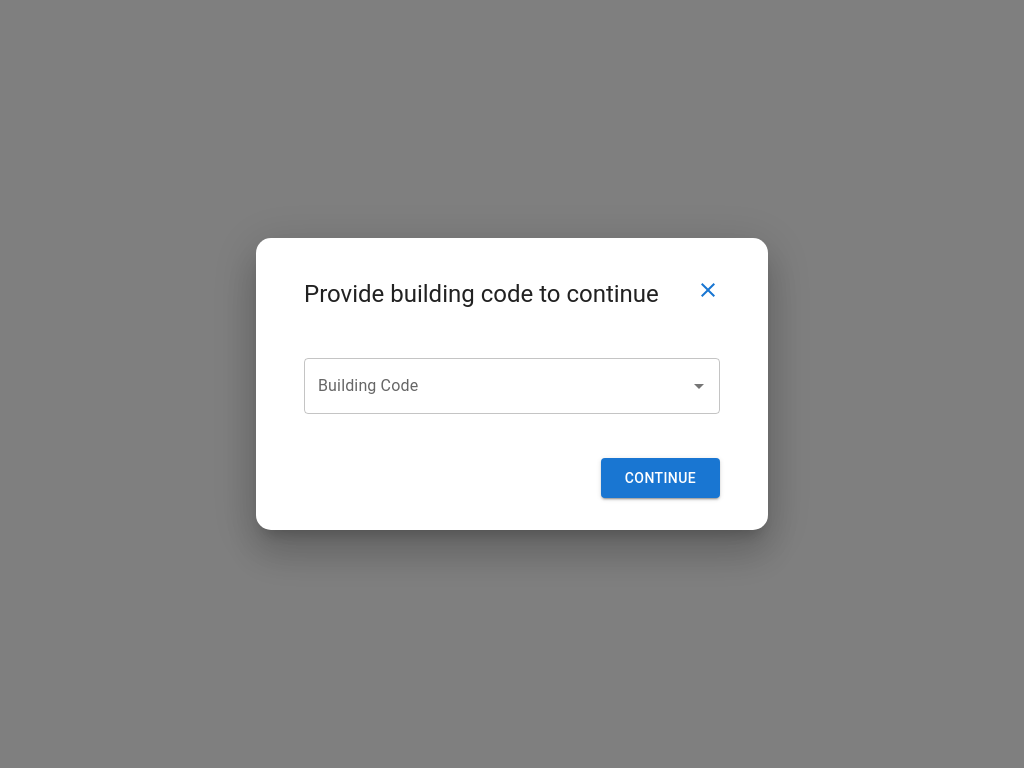
Test: WelcomeBasketBuildingDialog › Form Submission - Error Cases › shows error when no welcome unit exists for selected building
The width and height of the screenshot is (1024, 768).
Press the mouse on the dropdown labelled "Building Code": (484, 386) [313,367,655,405]
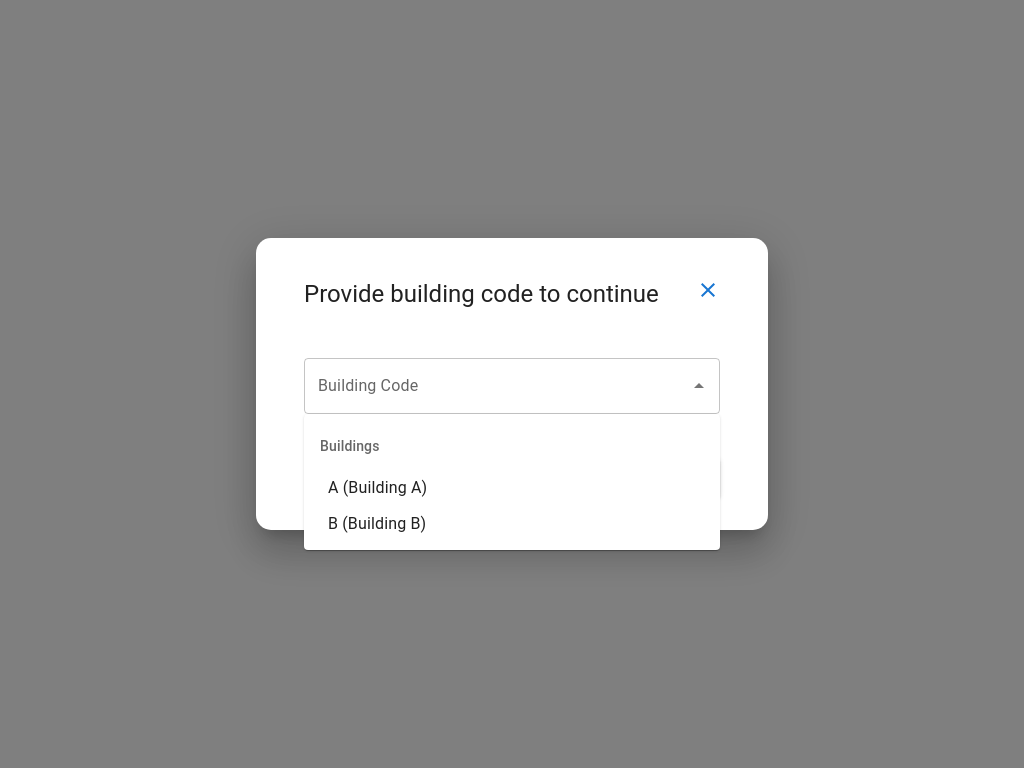
Click the option "A (Building A)": (378, 488) [328,478,427,497]
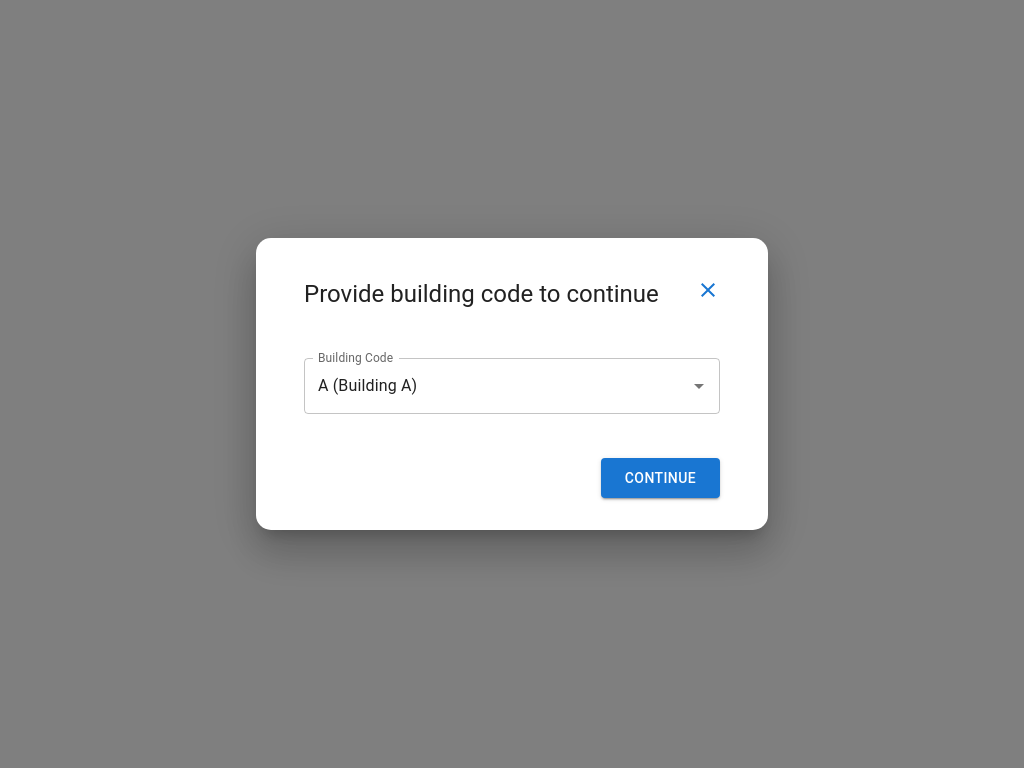
Click the button "Continue": (660, 478) [601,458,720,498]
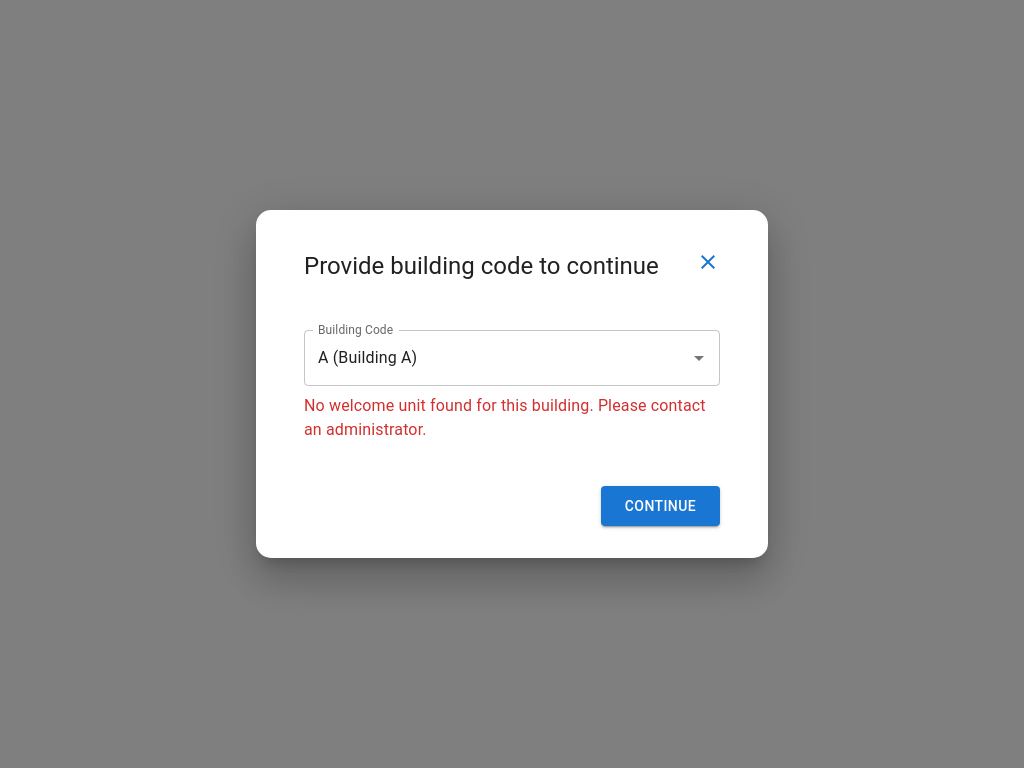
Expected: the text "No welcome unit found for this building" is shown, [304,396,706,439]
